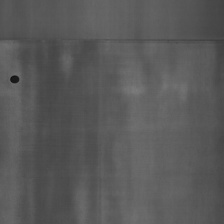punching_hole: (1, 32, 223, 47), (8, 73, 21, 87)
